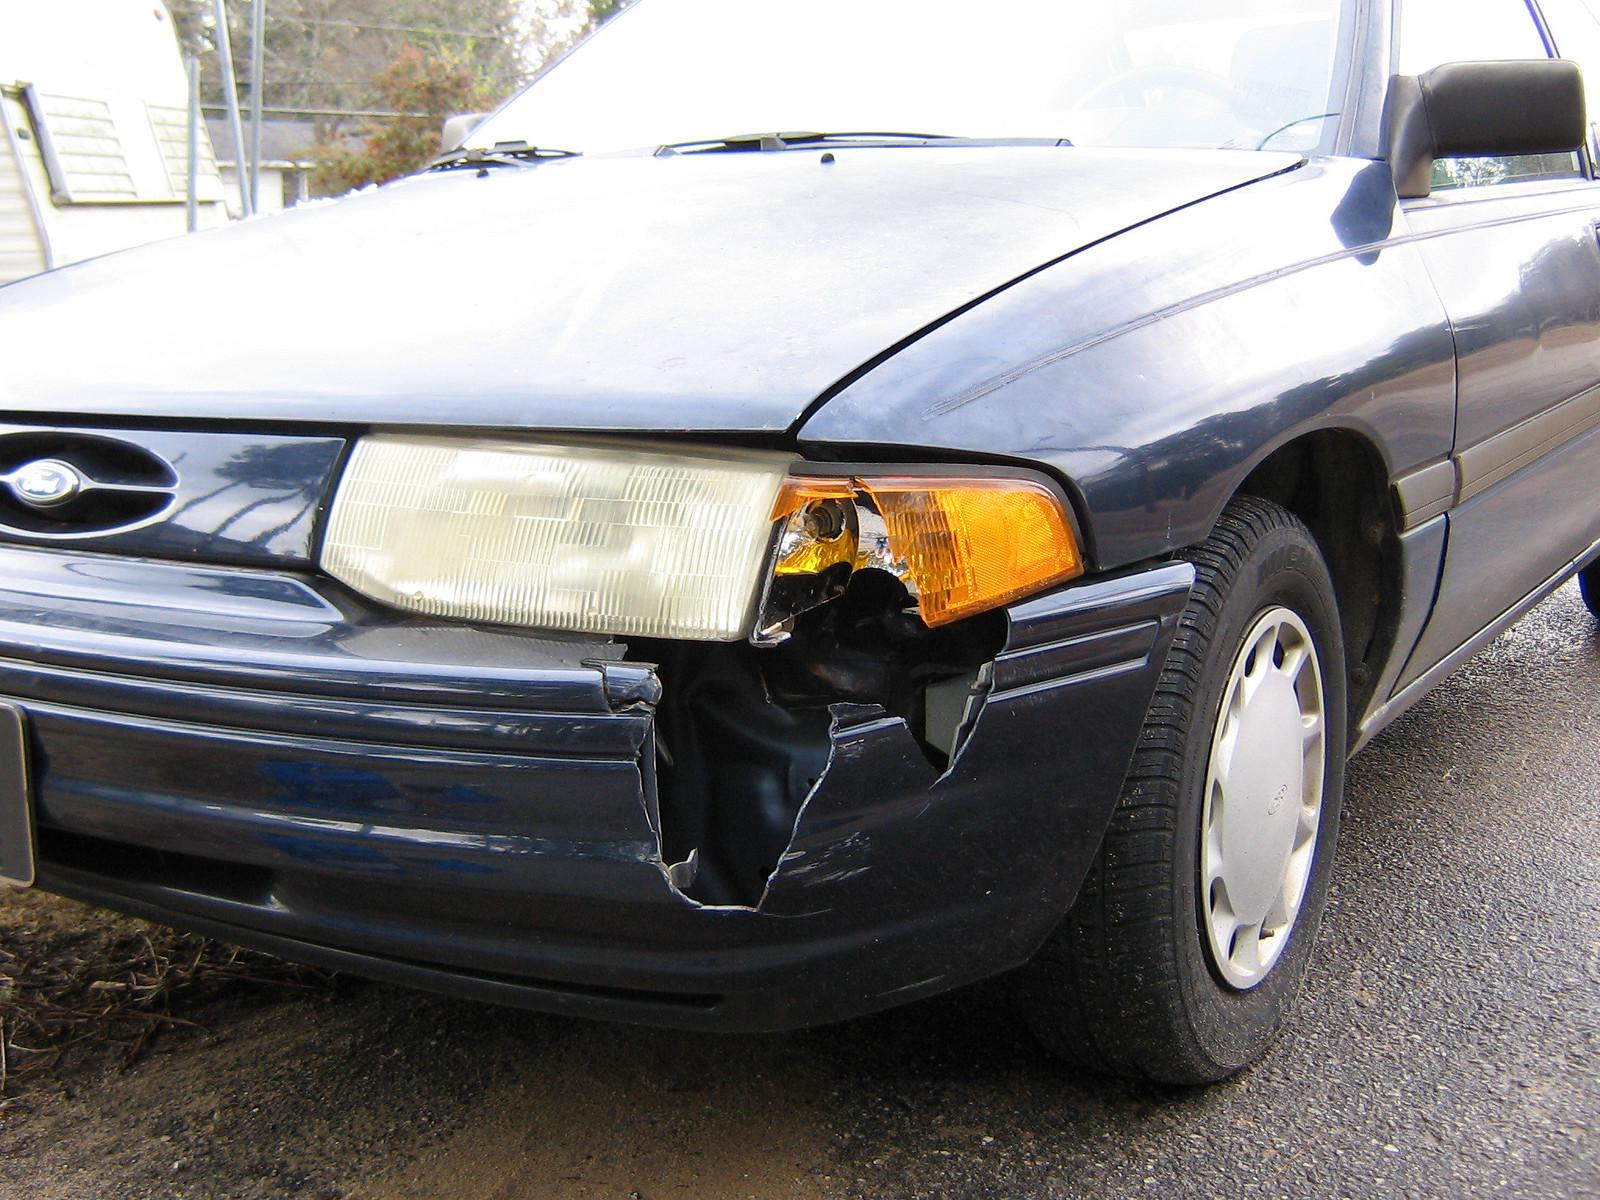Headlight-Damage: (299, 413, 1070, 669)
front-bumper-dent: (396, 608, 1170, 1013)
